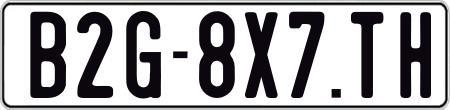2: (77, 10, 118, 99)
7: (288, 12, 329, 99)
8: (197, 9, 239, 101)
B: (29, 10, 67, 102)
G: (126, 9, 166, 100)
H: (398, 10, 432, 101)
T: (349, 9, 386, 96)
X: (244, 12, 280, 103)
